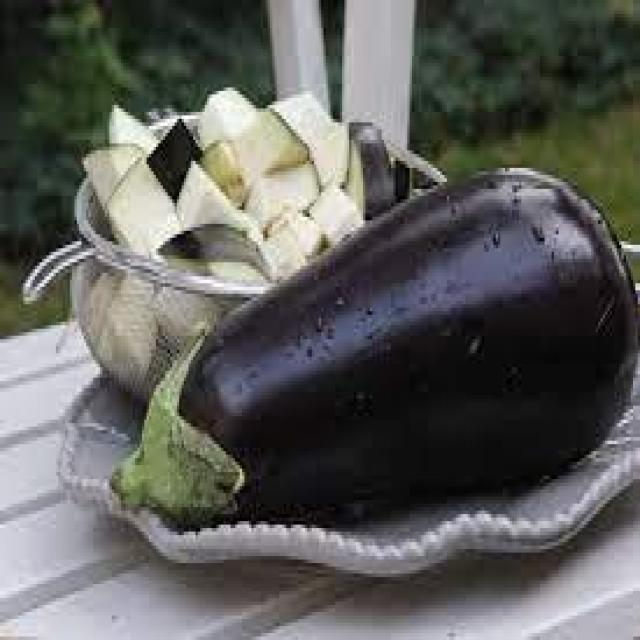eggplant: (108, 165, 637, 518)
